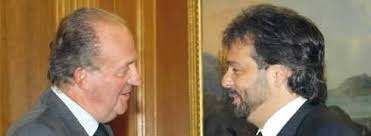person: (207, 7, 347, 126), (38, 8, 145, 132)
